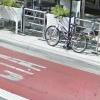Bicycle: (42, 16, 89, 59)
